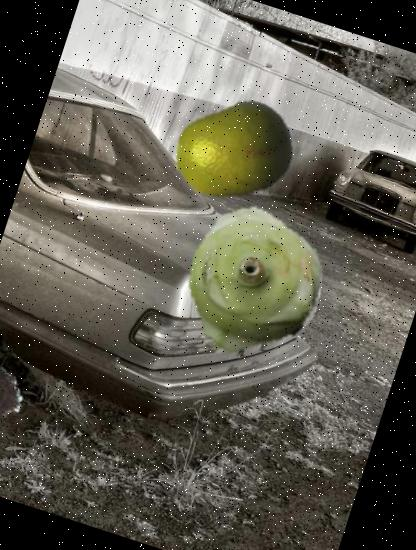Kohlrabi: (154, 190, 342, 378)
Pomelo: (157, 74, 310, 226)
Rambutan: (0, 348, 35, 434)
